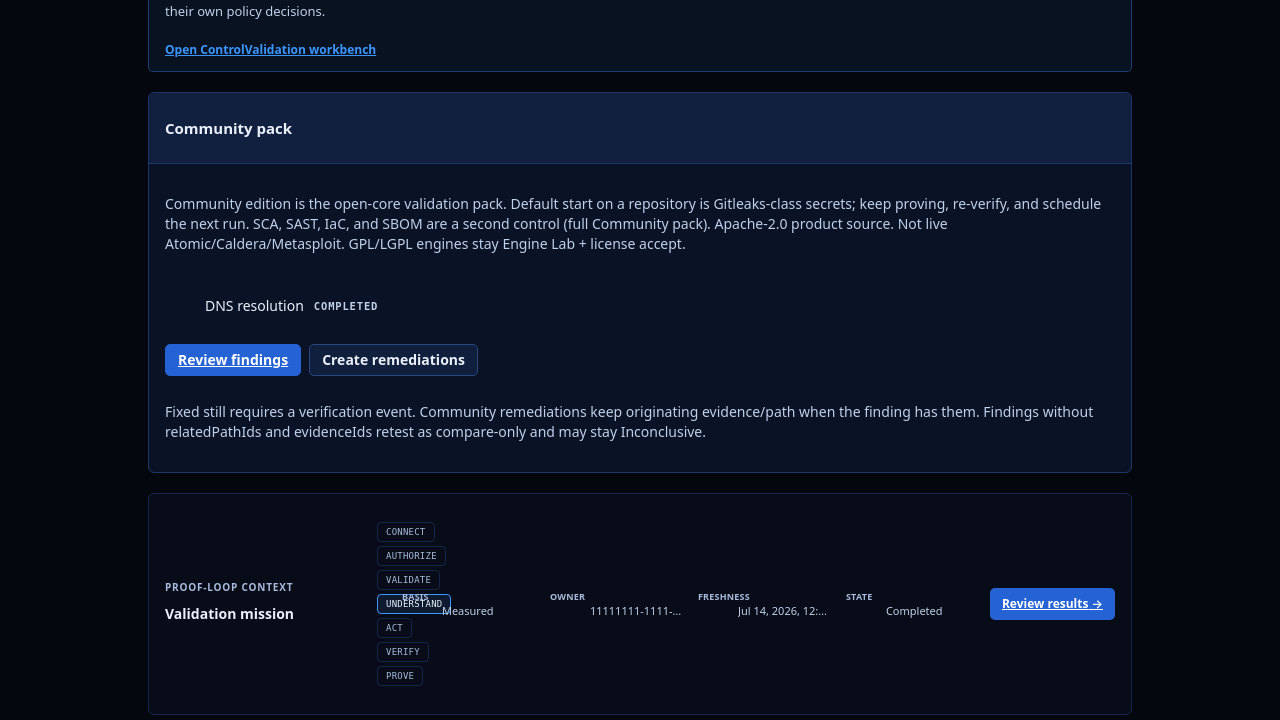
Scenario: MissionDetail › says a single Community remediation keeps originating evidence/path and still needs a verification event
(page scrolled)
Step 1. Click the button with test id "community-create-remediations" → (394, 360), box [309,344,478,376]
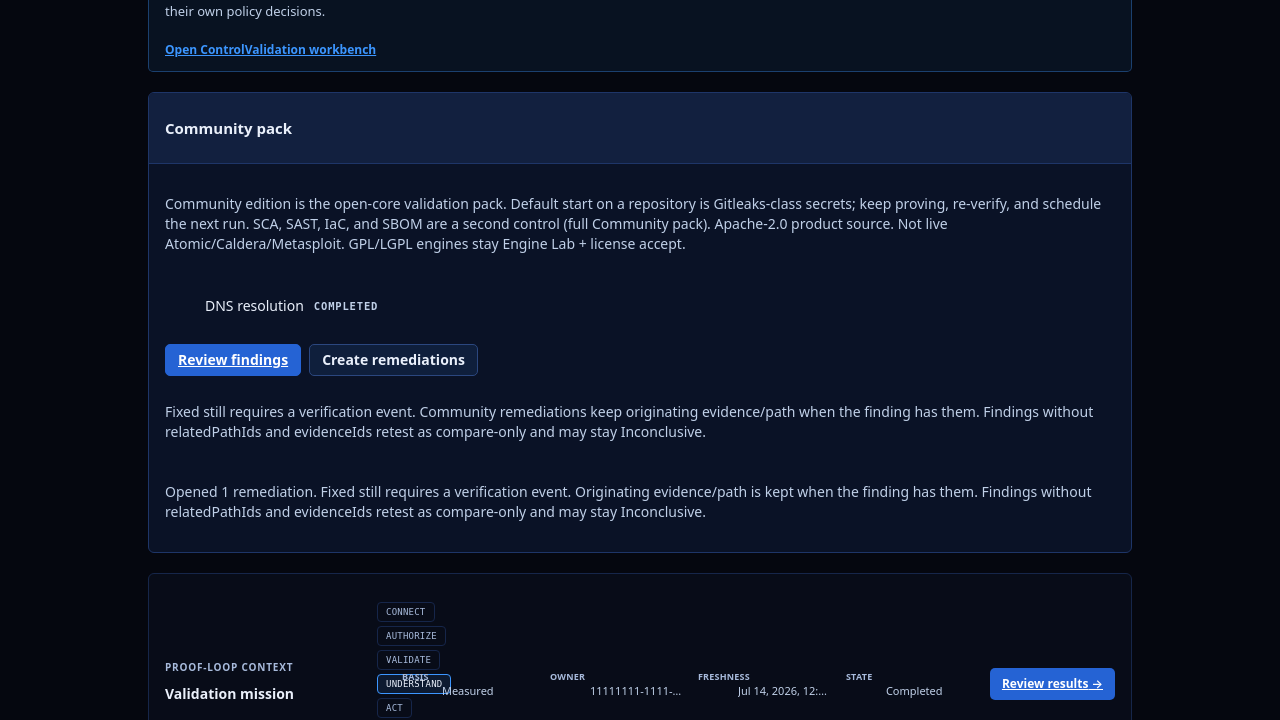
Expected: the 2nd message shows "Opened 1 remediation.", [165,482,1092,521]
Expected: the 2nd message shows "Fixed still requires a verification event", [165,482,1092,521]
Expected: the 2nd message shows "Originating evidence/path is kept when the finding has them.", [165,482,1092,521]
